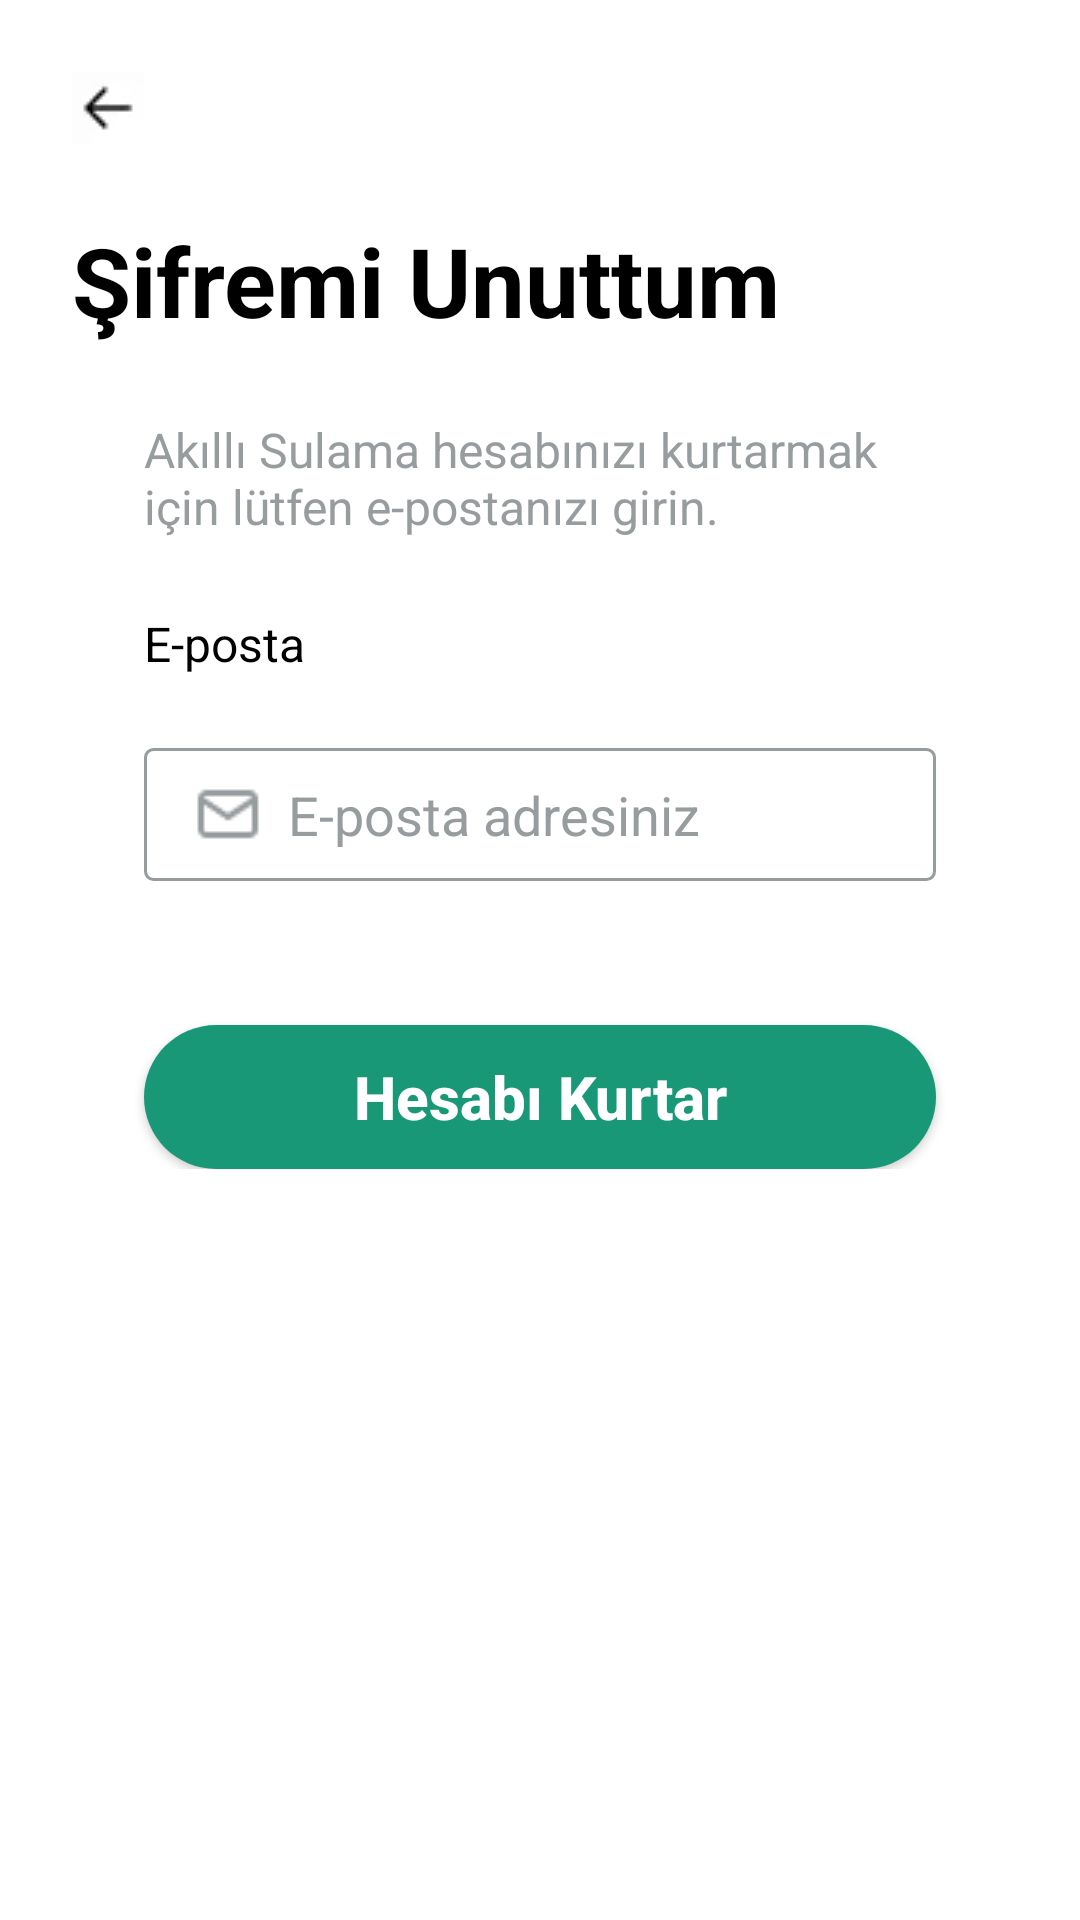

Icon click points for this 1080 × 1920 phone screenshot, format (x,y):
left: (108,108)
